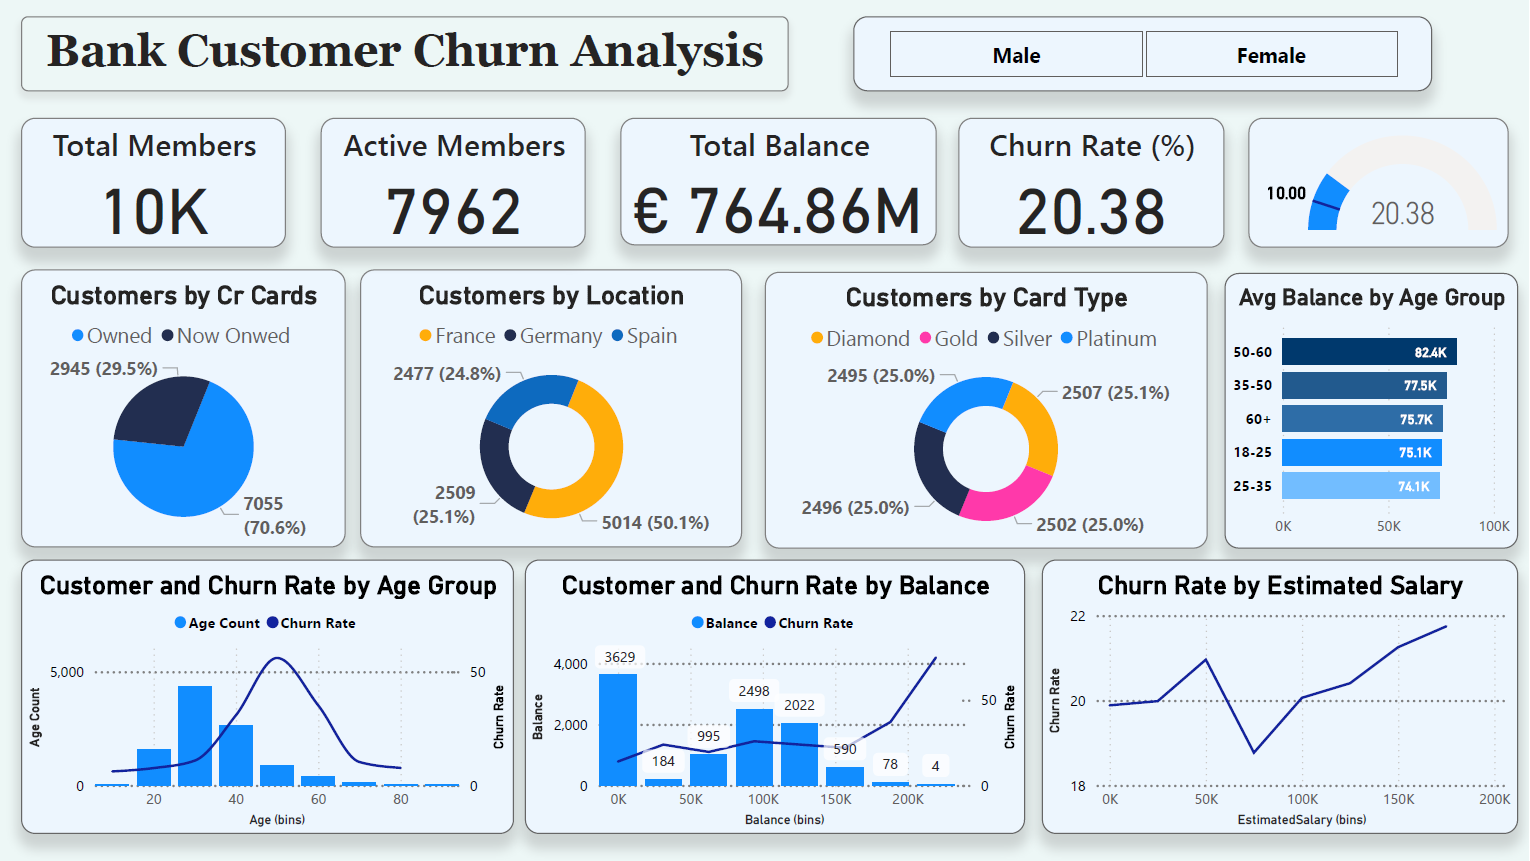

Layout of this report page (visuals, bound fields, positions):
{"tool":"powerbi","page":{"name":"Page 1","canvas":[1280,720],"ordinal":0},"visuals":[{"type":"donutChart","title":"Customers by Location","fields":{"Category":["Customer-Churn-Records.Geography"],"Y":["CountNonNull(Customer-Churn-Records.Geography)"]},"box":[300.8,225.2,320.7,232.3],"z":0},{"type":"textbox","box":[17.1,12.8,642.9,62.7],"z":1000},{"type":"card","title":"Active Members","fields":{"Values":["CountNonNull(Customer-Churn-Records.Exited)"]},"box":[268,98.4,222.4,108.3],"z":2000},{"type":"card","title":"Total Balance","fields":{"Values":["Sum(Customer-Churn-Records.Balance)"]},"box":[518.8,98.4,265.1,106.9],"z":3000},{"type":"card","title":"Churn Rate (%)","fields":{"Values":["Customer-Churn-Records.NonExitedPercentage"]},"box":[802.5,98.4,222.4,108.3],"z":4000},{"type":"gauge","fields":{"Y":["Customer-Churn-Records.NonExitedPercentage"]},"box":[1044.8,98.4,218.1,108.3],"z":5000},{"type":"card","title":"Total Members","fields":{"Values":["CountNonNull(Customer-Churn-Records.RowNumber)"]},"box":[17.1,98.4,222.4,108.3],"z":6000},{"type":"donutChart","title":"Customers by Card Type","fields":{"Category":["Customer-Churn-Records.Card Type"],"Y":["CountNonNull(Customer-Churn-Records.Card Type)"]},"box":[640,226.6,370.6,232.3],"z":7000},{"type":"pieChart","title":"Customers by Cr Cards","fields":{"Category":["Customer-Churn-Records.HasCrCard"],"Y":["CountNonNull(Customer-Churn-Records.HasCrCard)"]},"box":[17.1,225.2,272.2,232.3],"z":8000},{"type":"barChart","title":"Avg Balance by Age Group","fields":{"Category":["Customer-Churn-Records.Age group"],"Y":["Avg(Customer-Churn-Records.Balance)"]},"box":[1024.9,228.1,246.6,230.9],"z":9000},{"type":"slicer","fields":{"Values":["Customer-Churn-Records.Gender"]},"box":[714.1,12.8,484.6,62.7],"z":10000},{"type":"lineClusteredColumnComboChart","title":"Customer and Churn Rate by Age Group","fields":{"Category":["Customer-Churn-Records.Age (bins)"],"Y":["CountNonNull(Customer-Churn-Records.Age)"],"Y2":["Customer-Churn-Records.NonExitedPercentage"]},"box":[17.1,467.5,413.4,230.9],"z":11000},{"type":"lineClusteredColumnComboChart","title":"Customer and Churn Rate by Balance","fields":{"Y":["CountNonNull(Customer-Churn-Records.Balance)"],"Y2":["Customer-Churn-Records.NonExitedPercentage"],"Category":["Customer-Churn-Records.Balance (bins)"]},"box":[439,467.5,419.1,230.9],"z":12000},{"type":"lineClusteredColumnComboChart","title":"Churn Rate by Estimated Salary","fields":{"Y2":["Customer-Churn-Records.NonExitedPercentage"],"Category":["Customer-Churn-Records.EstimatedSalary (bins)"]},"box":[872.3,467.5,399.1,230.9],"z":13000}]}

Visuals, with their boxes in screenshot pixels (x1, y1, x2, y2), scaled from the page's 1280x720 canvas onto the 1530x861 screenshot:
"Customers by Location" donutChart: {"x1": 360, "y1": 269, "x2": 743, "y2": 547}
textbox: {"x1": 20, "y1": 15, "x2": 789, "y2": 90}
"Active Members" card: {"x1": 320, "y1": 118, "x2": 586, "y2": 247}
"Total Balance" card: {"x1": 620, "y1": 118, "x2": 937, "y2": 246}
"Churn Rate (%)" card: {"x1": 959, "y1": 118, "x2": 1225, "y2": 247}
gauge - Customer-Churn-Records.NonExitedPercentage: {"x1": 1249, "y1": 118, "x2": 1510, "y2": 247}
"Total Members" card: {"x1": 20, "y1": 118, "x2": 286, "y2": 247}
"Customers by Card Type" donutChart: {"x1": 765, "y1": 271, "x2": 1208, "y2": 549}
"Customers by Cr Cards" pieChart: {"x1": 20, "y1": 269, "x2": 346, "y2": 547}
"Avg Balance by Age Group" barChart: {"x1": 1225, "y1": 273, "x2": 1520, "y2": 549}
slicer - Customer-Churn-Records.Gender: {"x1": 854, "y1": 15, "x2": 1433, "y2": 90}
"Customer and Churn Rate by Age Group" lineClusteredColumnComboChart: {"x1": 20, "y1": 559, "x2": 515, "y2": 835}
"Customer and Churn Rate by Balance" lineClusteredColumnComboChart: {"x1": 525, "y1": 559, "x2": 1026, "y2": 835}
"Churn Rate by Estimated Salary" lineClusteredColumnComboChart: {"x1": 1043, "y1": 559, "x2": 1520, "y2": 835}
